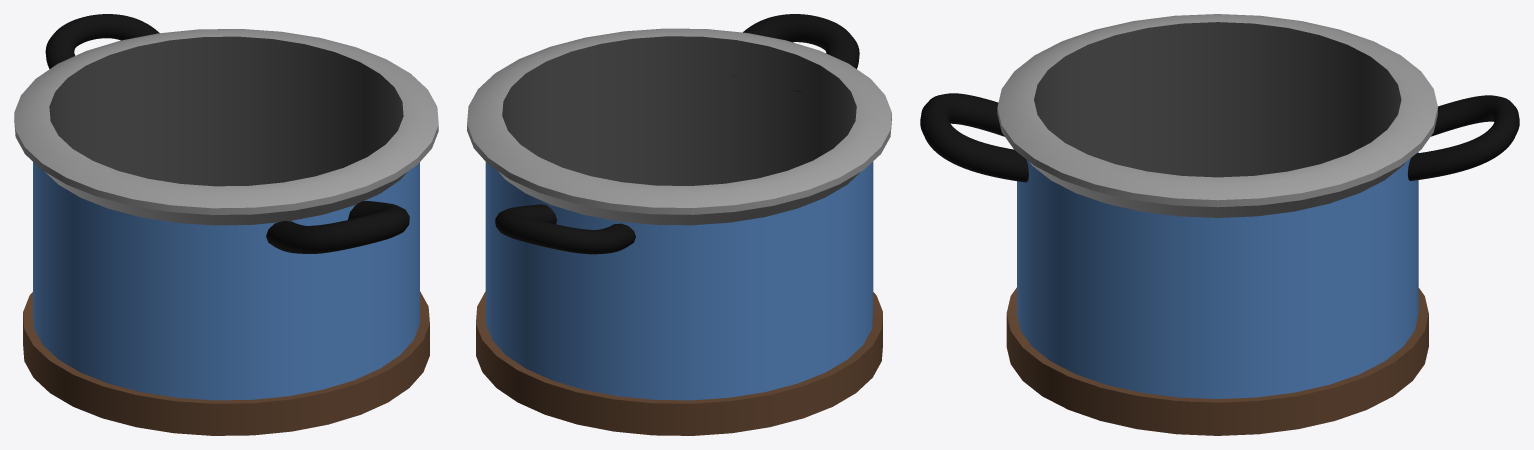
File: olla.fbx
3 views of the same model, side by side, from view 1: azimuth 30°, elevation 25°; view 2: azimuth 150°, elevation 25°; view 3: azimuth 270°, elevation 25° (orthographic). The views are drawn at different scales.
Visible parts, largest first — view 1: Cilindro, Trayectoria_NURBS.002, Trayectoria_NURBS.001; view 2: Cilindro, Trayectoria_NURBS.001, Trayectoria_NURBS.002; view 3: Cilindro, Trayectoria_NURBS.002, Trayectoria_NURBS.001.
Boxes of the visible parts, x1=… form: Cilindro: x1=14, y1=29, x2=438, y2=435; Trayectoria_NURBS.002: x1=266, y1=201, x2=409, y2=253; Trayectoria_NURBS.001: x1=45, y1=14, x2=159, y2=68; Cilindro: x1=467, y1=28, x2=891, y2=435; Trayectoria_NURBS.001: x1=495, y1=204, x2=635, y2=254; Trayectoria_NURBS.002: x1=733, y1=14, x2=859, y2=93; Cilindro: x1=997, y1=14, x2=1437, y2=435; Trayectoria_NURBS.002: x1=920, y1=93, x2=1040, y2=182; Trayectoria_NURBS.001: x1=1407, y1=95, x2=1519, y2=180.
Bounding box in the file's own units: 239 × 148 × 325.
